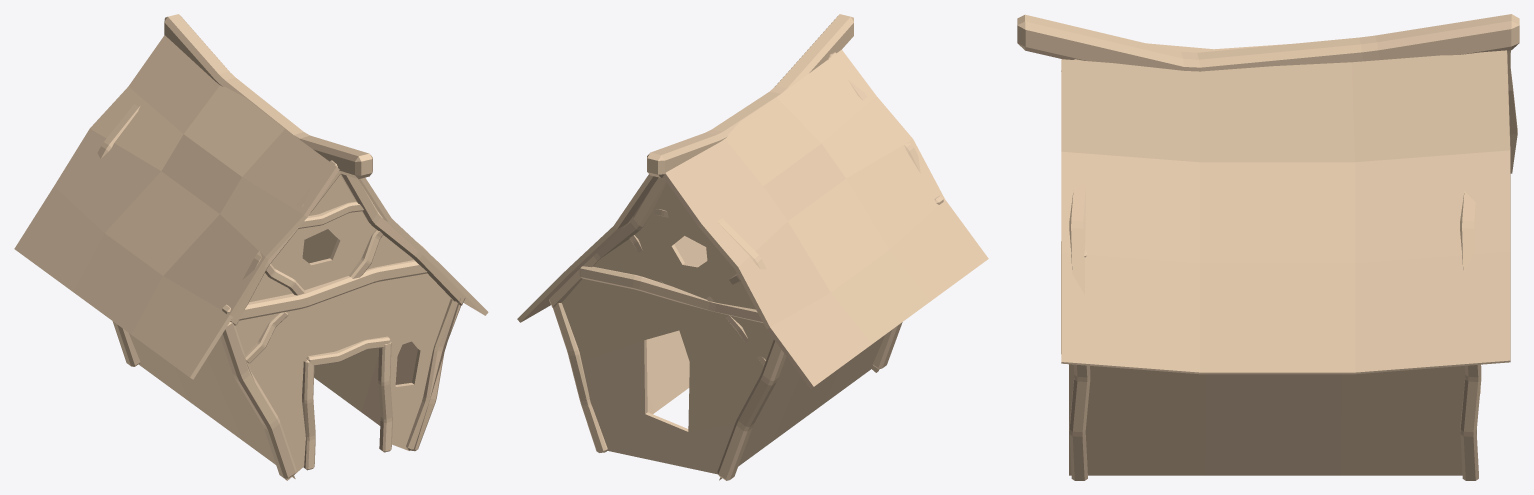
Rendered from cottage1.fbx.
3 views of the same model, side by side, from view 1: azimuth 30°, elevation 25°; view 2: azimuth 150°, elevation 25°; view 3: azimuth 270°, elevation 25° (orthographic). The views are drawn at different scales.
Parts seen in each view (by area): view 1: Plane, Plane.002, Cube.024, Cube.002, Cube.001, Cube.003, Cube, Cube.011, Cube.010, Cube.004, Cube.009, Cube.005 (+4 smaller); view 2: Plane, Plane.002, Cube.024, Cube.013, Cube.014, Cube.015, Cube.012, Cube.001, Cube.016; view 3: Plane, Plane.002, Cube.024, Cube.012, Cube, Cube.003, Cube.015.
Part boxes in pixels (x1,y1,x2,y2): Plane: [14, 35, 488, 480]; Plane.002: [129, 229, 460, 478]; Cube.024: [164, 14, 372, 179]; Cube.002: [222, 260, 426, 320]; Cube.001: [220, 322, 296, 478]; Cube.003: [340, 174, 465, 305]; Cube: [406, 299, 460, 450]; Cube.011: [378, 341, 392, 452]; Cube.010: [302, 359, 315, 470]; Cube.004: [230, 160, 340, 325]; Cube.009: [306, 336, 390, 366]; Cube.005: [298, 201, 373, 228]; Plane: [517, 49, 988, 474]; Plane.002: [588, 236, 885, 480]; Cube.024: [647, 14, 853, 177]; Cube.013: [717, 340, 786, 480]; Cube.014: [579, 266, 762, 322]; Cube.015: [549, 177, 666, 307]; Cube.012: [553, 303, 607, 452]; Cube.001: [872, 322, 902, 369]; Cube.016: [718, 218, 766, 269]; Plane: [1061, 43, 1517, 440]; Plane.002: [1069, 364, 1476, 475]; Cube.024: [1017, 14, 1519, 71]; Cube.012: [1460, 364, 1481, 480]; Cube: [1069, 364, 1090, 480]; Cube.003: [1069, 59, 1086, 294]; Cube.015: [1460, 191, 1475, 273].
Bounding box in the file's own units: 339 × 356 × 386.
